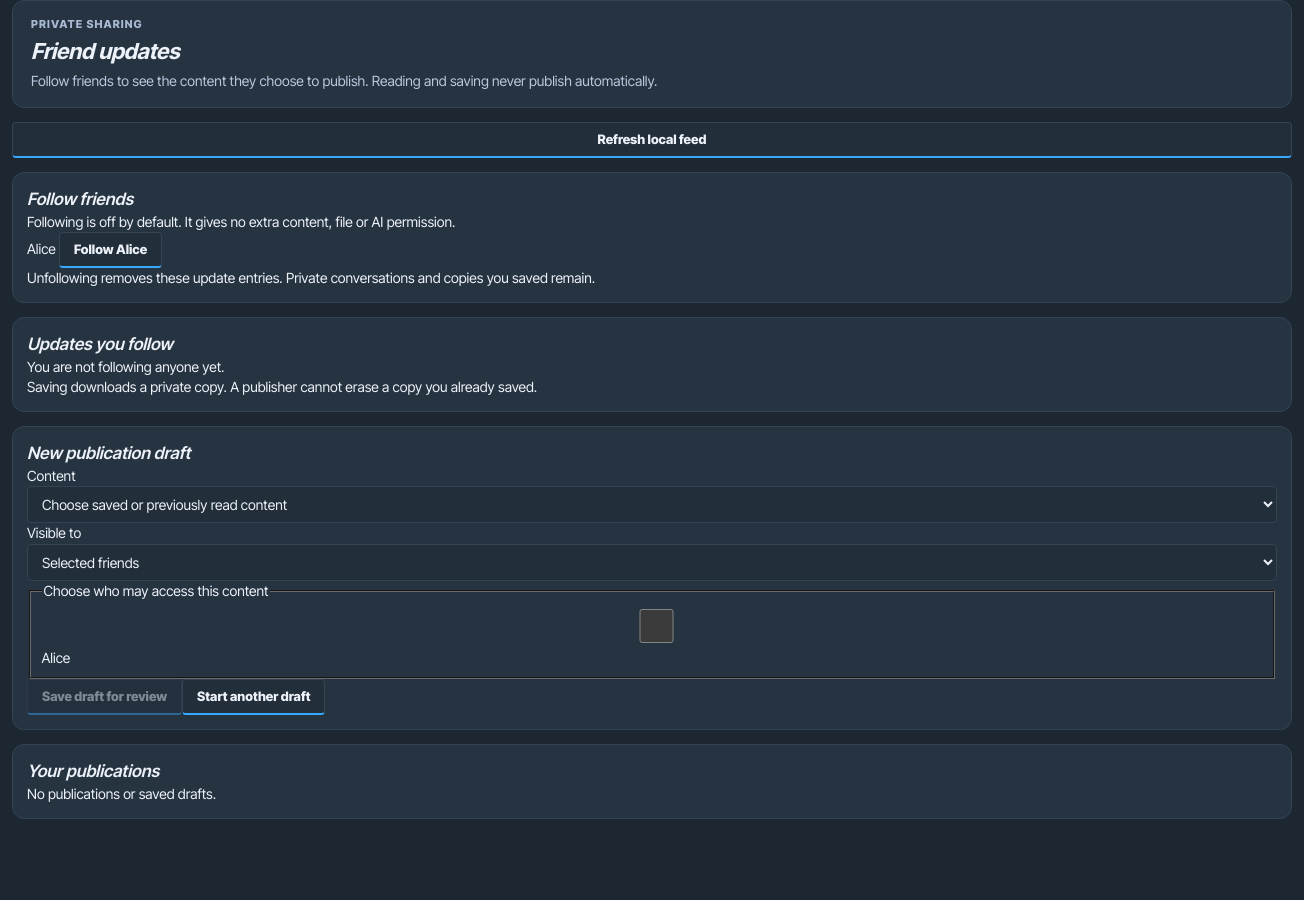
Test: starts without subscriptions or automatic downloads and recovers an offline first refresh
Click the button "Follow Alice".
click(111, 250)  # box [59,232,162,268]
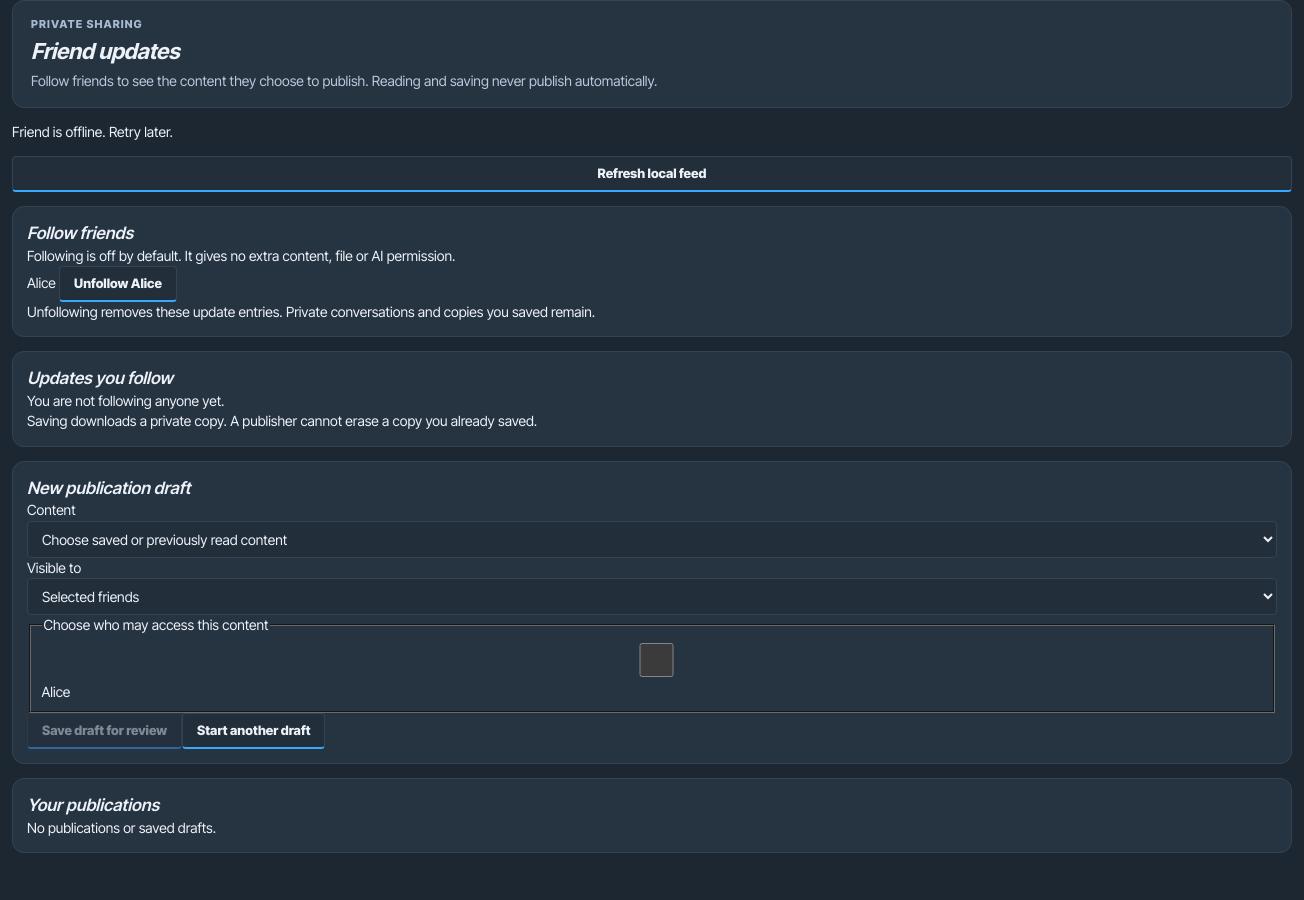
Expected: the button "Unfollow Alice" is enabled, [59,266,177,302]
Expected: the message shows "offline", [12,123,173,140]
